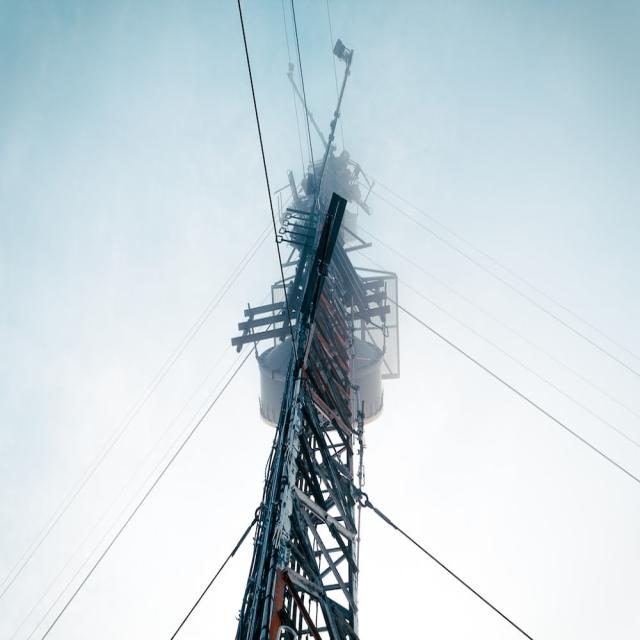transmission tower: (210, 89, 444, 615)
